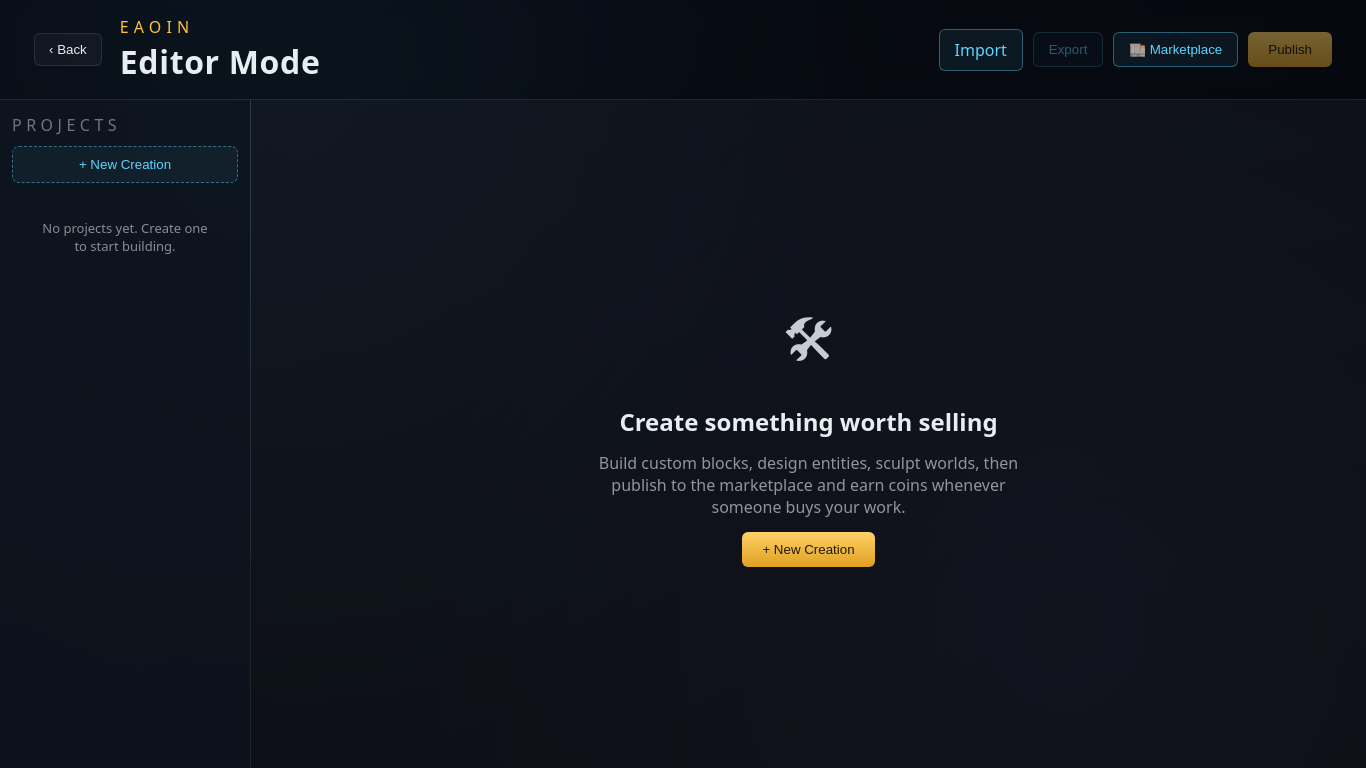
it: EditorScreen › adds a custom block
The width and height of the screenshot is (1366, 768).
Click the 1st button "+ New Creation" at x=125, y=164, box [12,146,238,183]
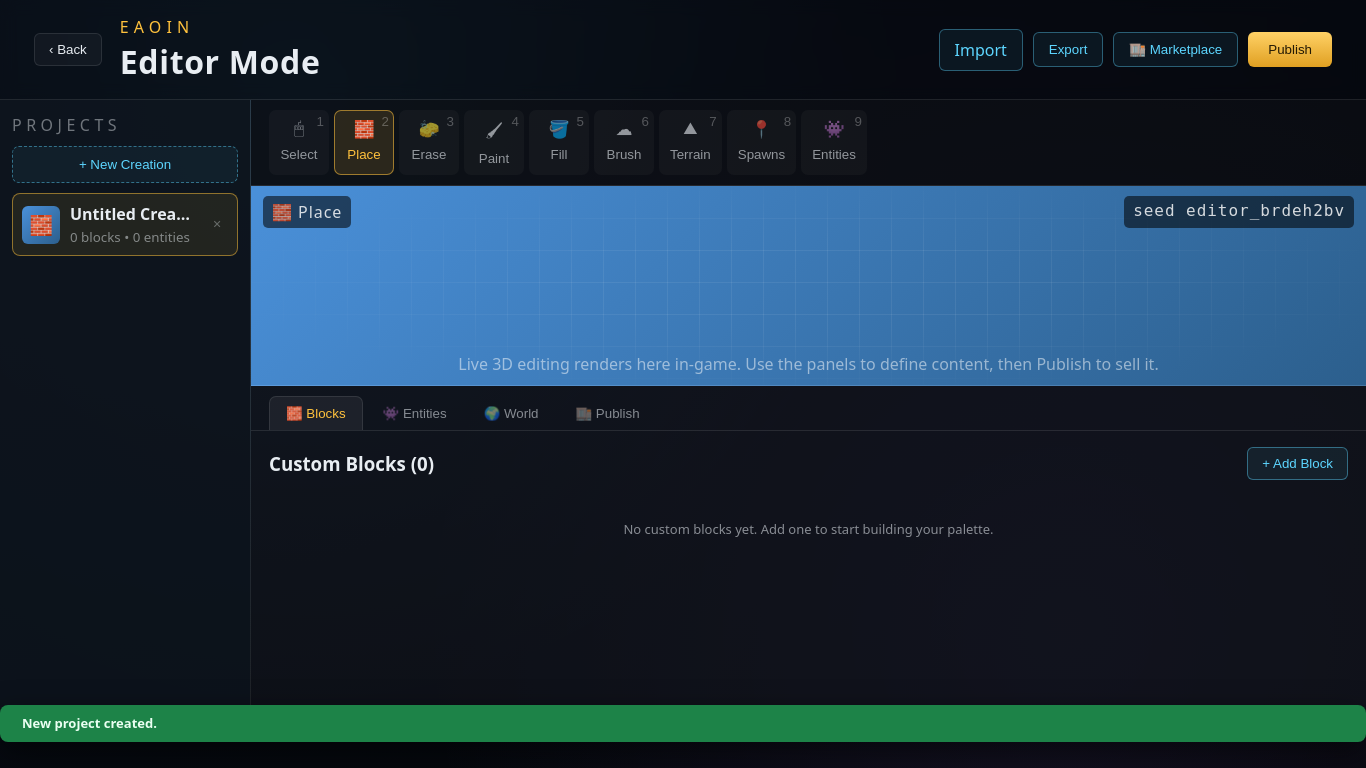
Click the button "+ Add Block" at x=1298, y=463, box [1247,447,1348,480]
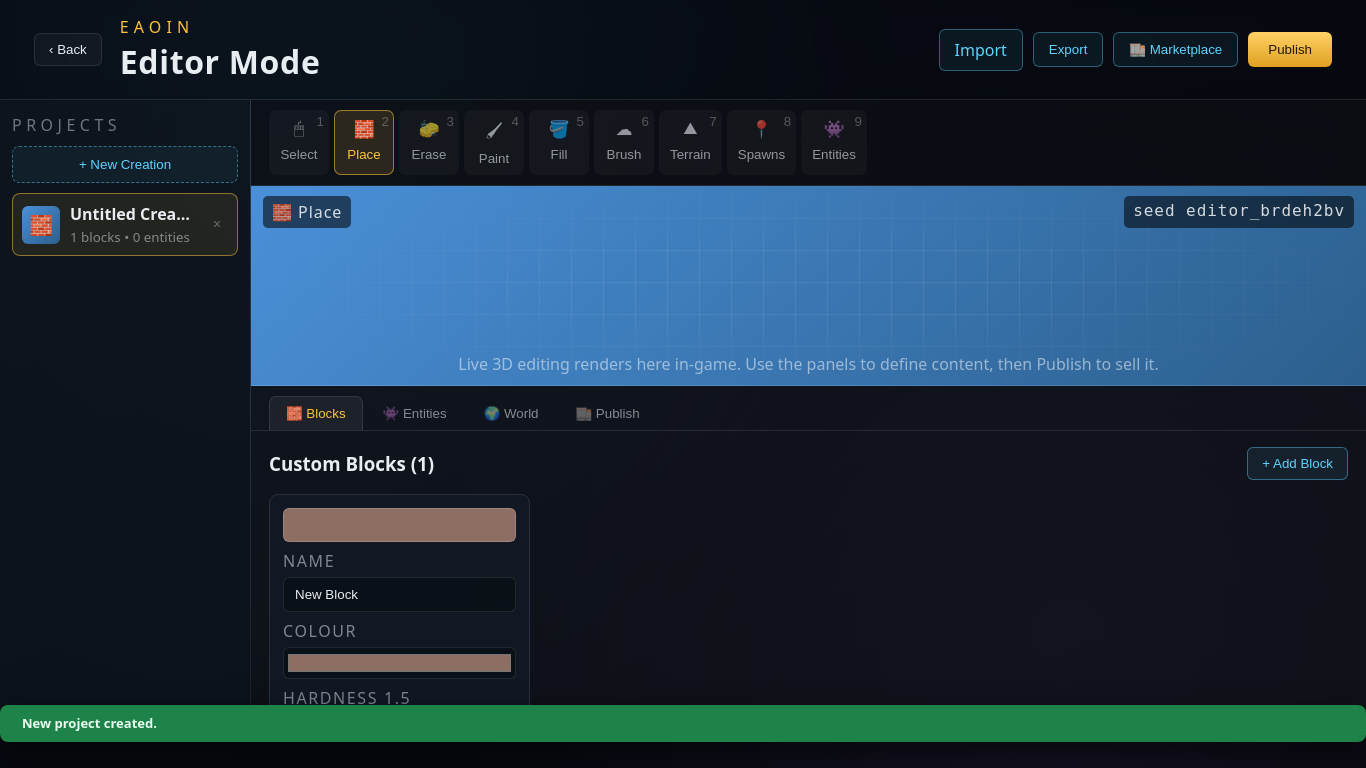
Check: the number of elements with class "ed-item-card" is 1, box [269,494,530,731]
Check: the text "Custom Blocks (1)" is shown, box [269,451,434,476]
